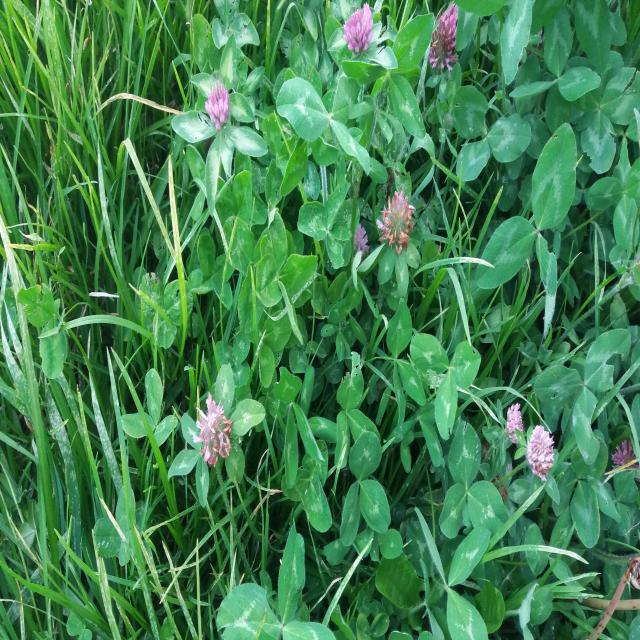Four Leaf Clover: (254, 207, 318, 345)
